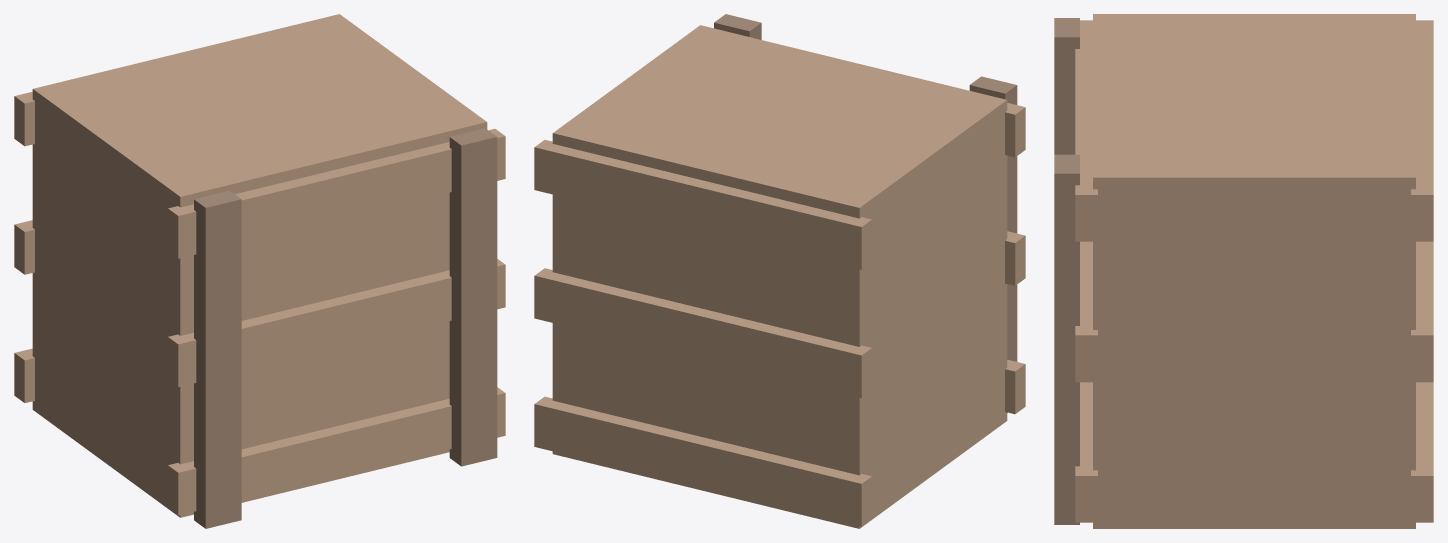
Rendered from wood_crate.glb.
3 views of the same model, side by side, from view 1: azimuth 30°, elevation 25°; view 2: azimuth 150°, elevation 25°; view 3: azimuth 270°, elevation 25° (orthographic). The views are drawn at different scales.
Parts seen in each view (by area): view 1: wood_crate_000, wood_crate_008, wood_crate_007, wood_crate_005, wood_crate_003, wood_crate_001, wood_crate_004, wood_crate_002, wood_crate_006; view 2: wood_crate_000, wood_crate_002, wood_crate_004, wood_crate_006, wood_crate_007, wood_crate_001, wood_crate_005, wood_crate_003, wood_crate_008; view 3: wood_crate_000, wood_crate_008, wood_crate_006, wood_crate_005, wood_crate_007, wood_crate_004, wood_crate_002, wood_crate_003, wood_crate_001.
Boxes of the visible parts, <box> form: wood_crate_000: <box>32,14,487,517</box>; wood_crate_008: <box>449,128,497,466</box>; wood_crate_007: <box>194,190,241,528</box>; wood_crate_005: <box>168,128,505,258</box>; wood_crate_003: <box>168,259,505,386</box>; wood_crate_001: <box>168,387,505,515</box>; wood_crate_004: <box>14,220,34,274</box>; wood_crate_002: <box>14,348,34,402</box>; wood_crate_006: <box>14,91,34,146</box>; wood_crate_000: <box>552,25,1007,528</box>; wood_crate_002: <box>534,396,871,526</box>; wood_crate_004: <box>534,268,871,398</box>; wood_crate_006: <box>534,140,871,269</box>; wood_crate_007: <box>969,76,1017,412</box>; wood_crate_001: <box>1005,359,1025,414</box>; wood_crate_005: <box>1005,103,1025,157</box>; wood_crate_003: <box>1005,231,1025,285</box>; wood_crate_008: <box>714,14,761,39</box>; wood_crate_000: <box>1093,14,1415,528</box>; wood_crate_008: <box>1054,154,1079,524</box>; wood_crate_006: <box>1411,20,1433,241</box>; wood_crate_005: <box>1075,20,1097,241</box>; wood_crate_007: <box>1054,18,1079,154</box>; wood_crate_004: <box>1411,241,1433,382</box>; wood_crate_002: <box>1411,382,1433,522</box>; wood_crate_003: <box>1075,241,1097,382</box>; wood_crate_001: <box>1075,382,1097,522</box>.
Bounding box in the file's own units: 0.64 × 0.6 × 0.5875.
